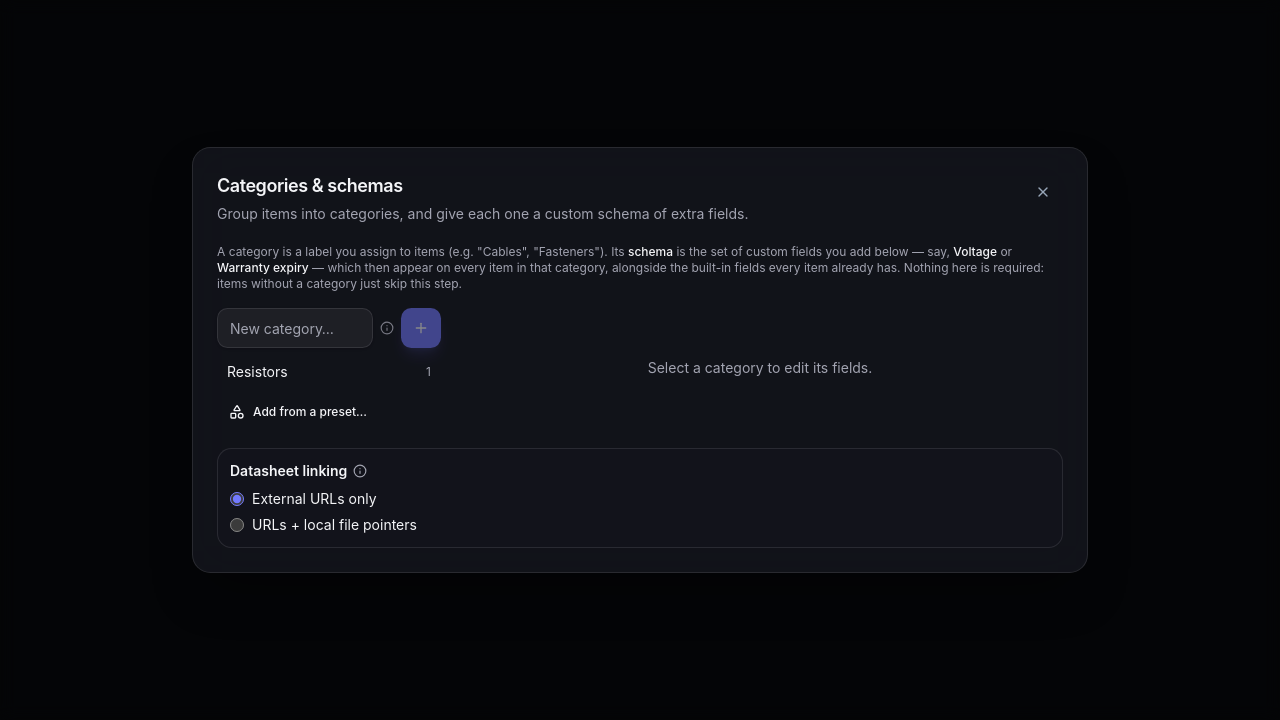
Test: CategoryManagerDialog — the selected-category detail › deletes the category and returns to the empty prompt
This screenshot has width=1280, height=720.
Click the button "Resistors 1". click: (329, 372)
box: [217, 356, 441, 388]
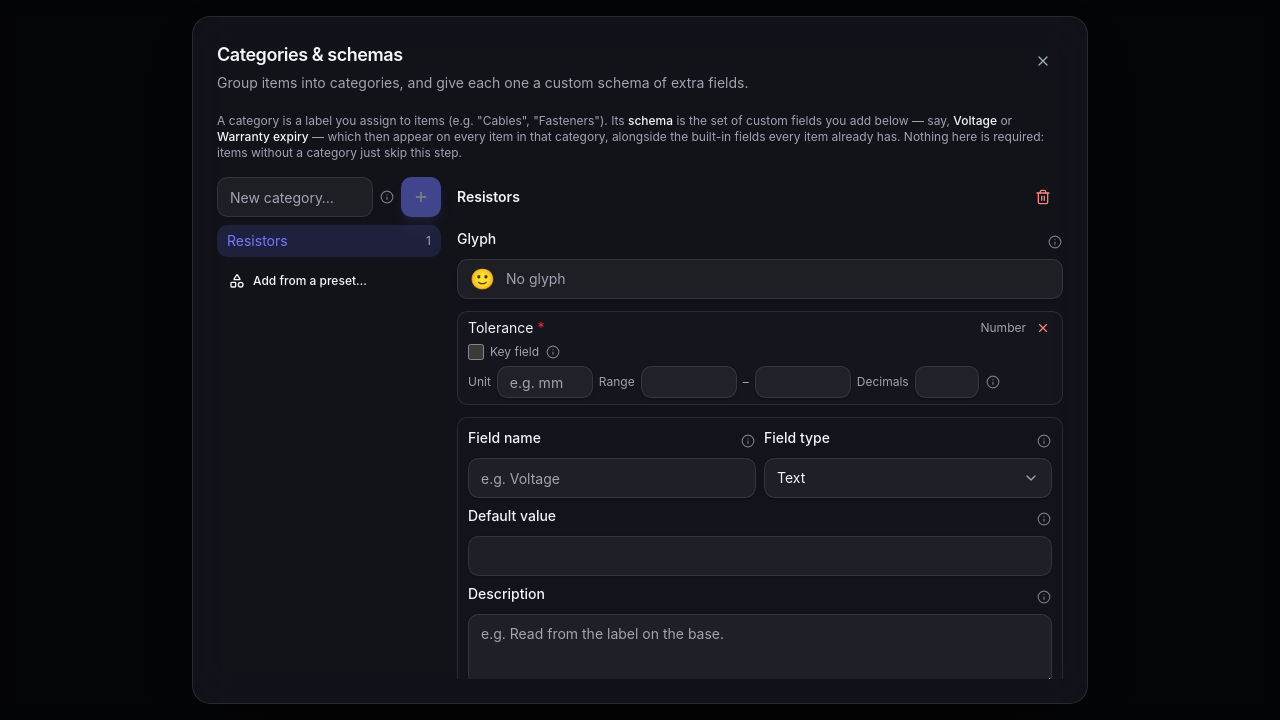
Click the button named "Delete category". click: (1043, 197)
box: [1023, 177, 1063, 217]
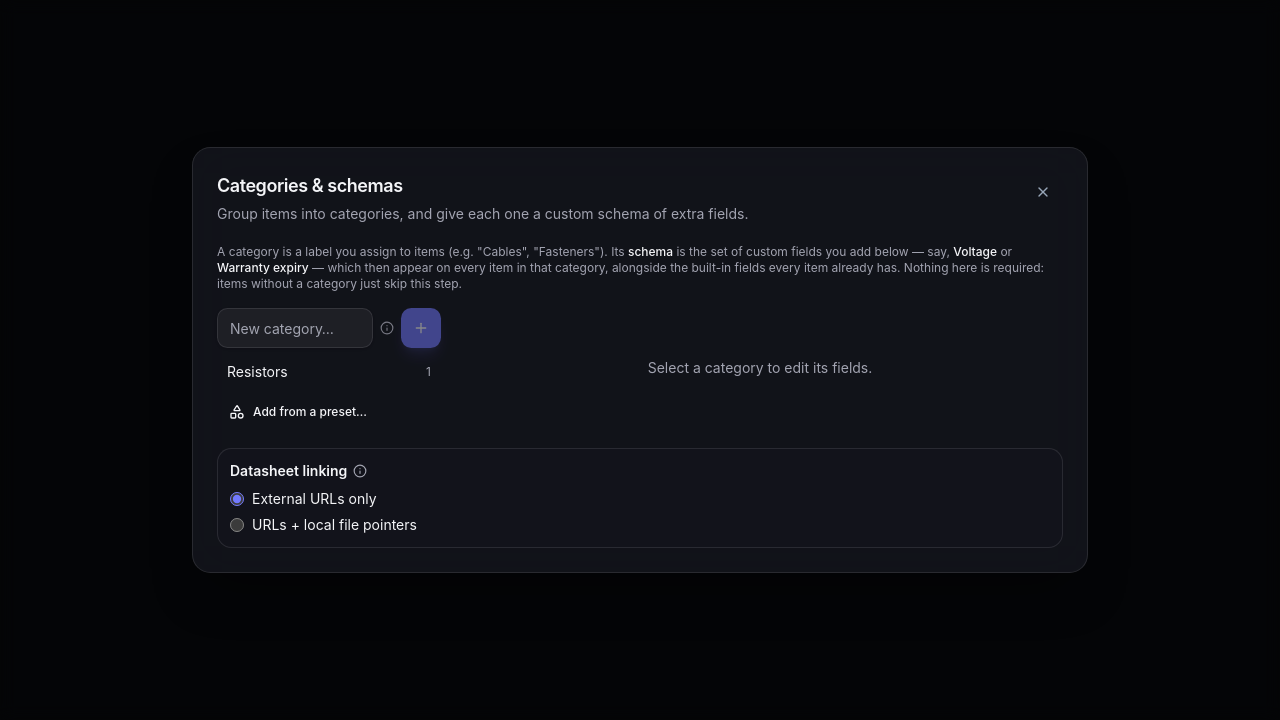
Expected: the text "Select a category to edit its fields." is shown, [648, 359, 872, 376]
